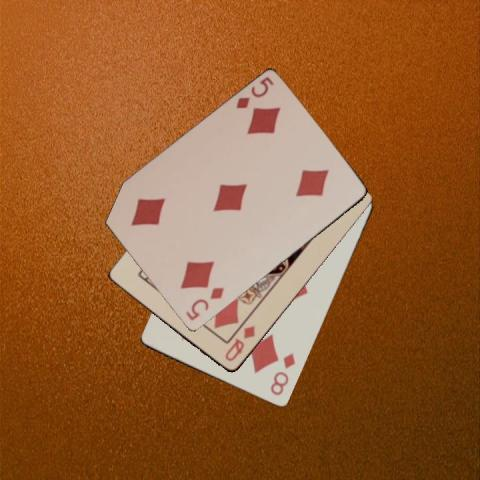5d: (183, 284, 226, 323), (233, 74, 275, 111)
8d: (267, 350, 297, 397)
Qd: (221, 323, 257, 363)
